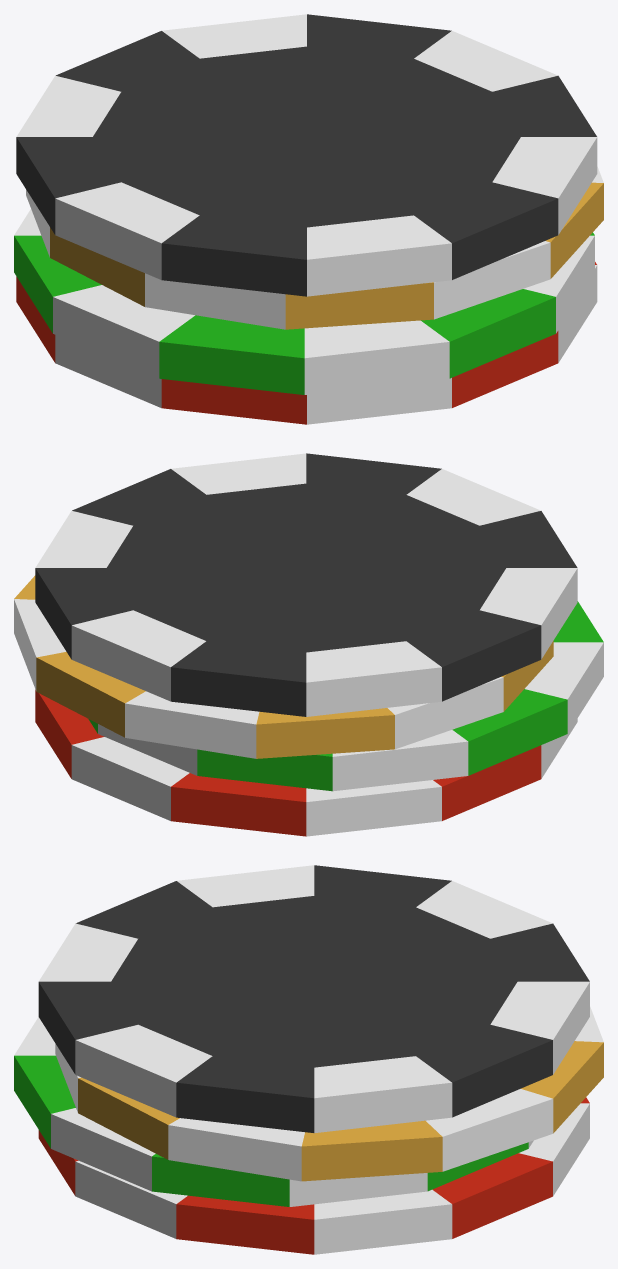
File: pokerchips.fbx
3 views of the same model, one above another, from view 1: azimuth 30°, elevation 25°; view 2: azimuth 150°, elevation 25°; view 3: azimuth 270°, elevation 25° (orthographic). The views are drawn at different scales.
Parts seen in each view (by area): view 1: pokerchip.004, pokerchip.002, pokerchip.003, pokerchip; view 2: pokerchip.004, pokerchip, pokerchip.003, pokerchip.002; view 3: pokerchip.004, pokerchip.003, pokerchip, pokerchip.002.
Boxes of the visible parts, x1,y1,x2,y2 form: pokerchip.004: (16,14,597,296); pokerchip.002: (14,209,594,394); pokerchip.003: (26,166,603,329); pokerchip: (16,262,597,424); pokerchip.004: (35,453,577,716); pokerchip: (35,689,577,836); pokerchip.003: (14,575,553,758); pokerchip.002: (88,601,603,791); pokerchip.004: (38,865,589,1133); pokerchip.003: (55,1006,603,1181); pokerchip: (38,1097,589,1254); pokerchip.002: (14,1017,533,1206).
Bounding box in the file's own units: 0.2828 × 0.0836 × 0.2854.
